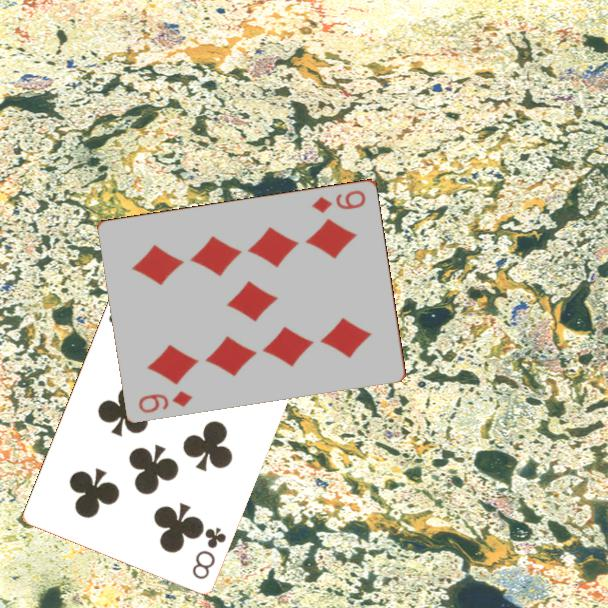c08: (188, 523, 229, 582)
d09: (309, 186, 369, 216), (135, 387, 196, 416)
